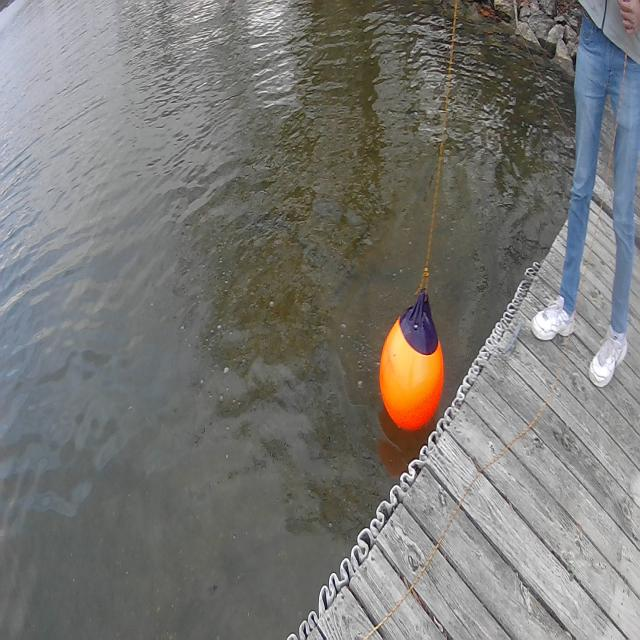Buoy: (373, 296, 450, 444)
